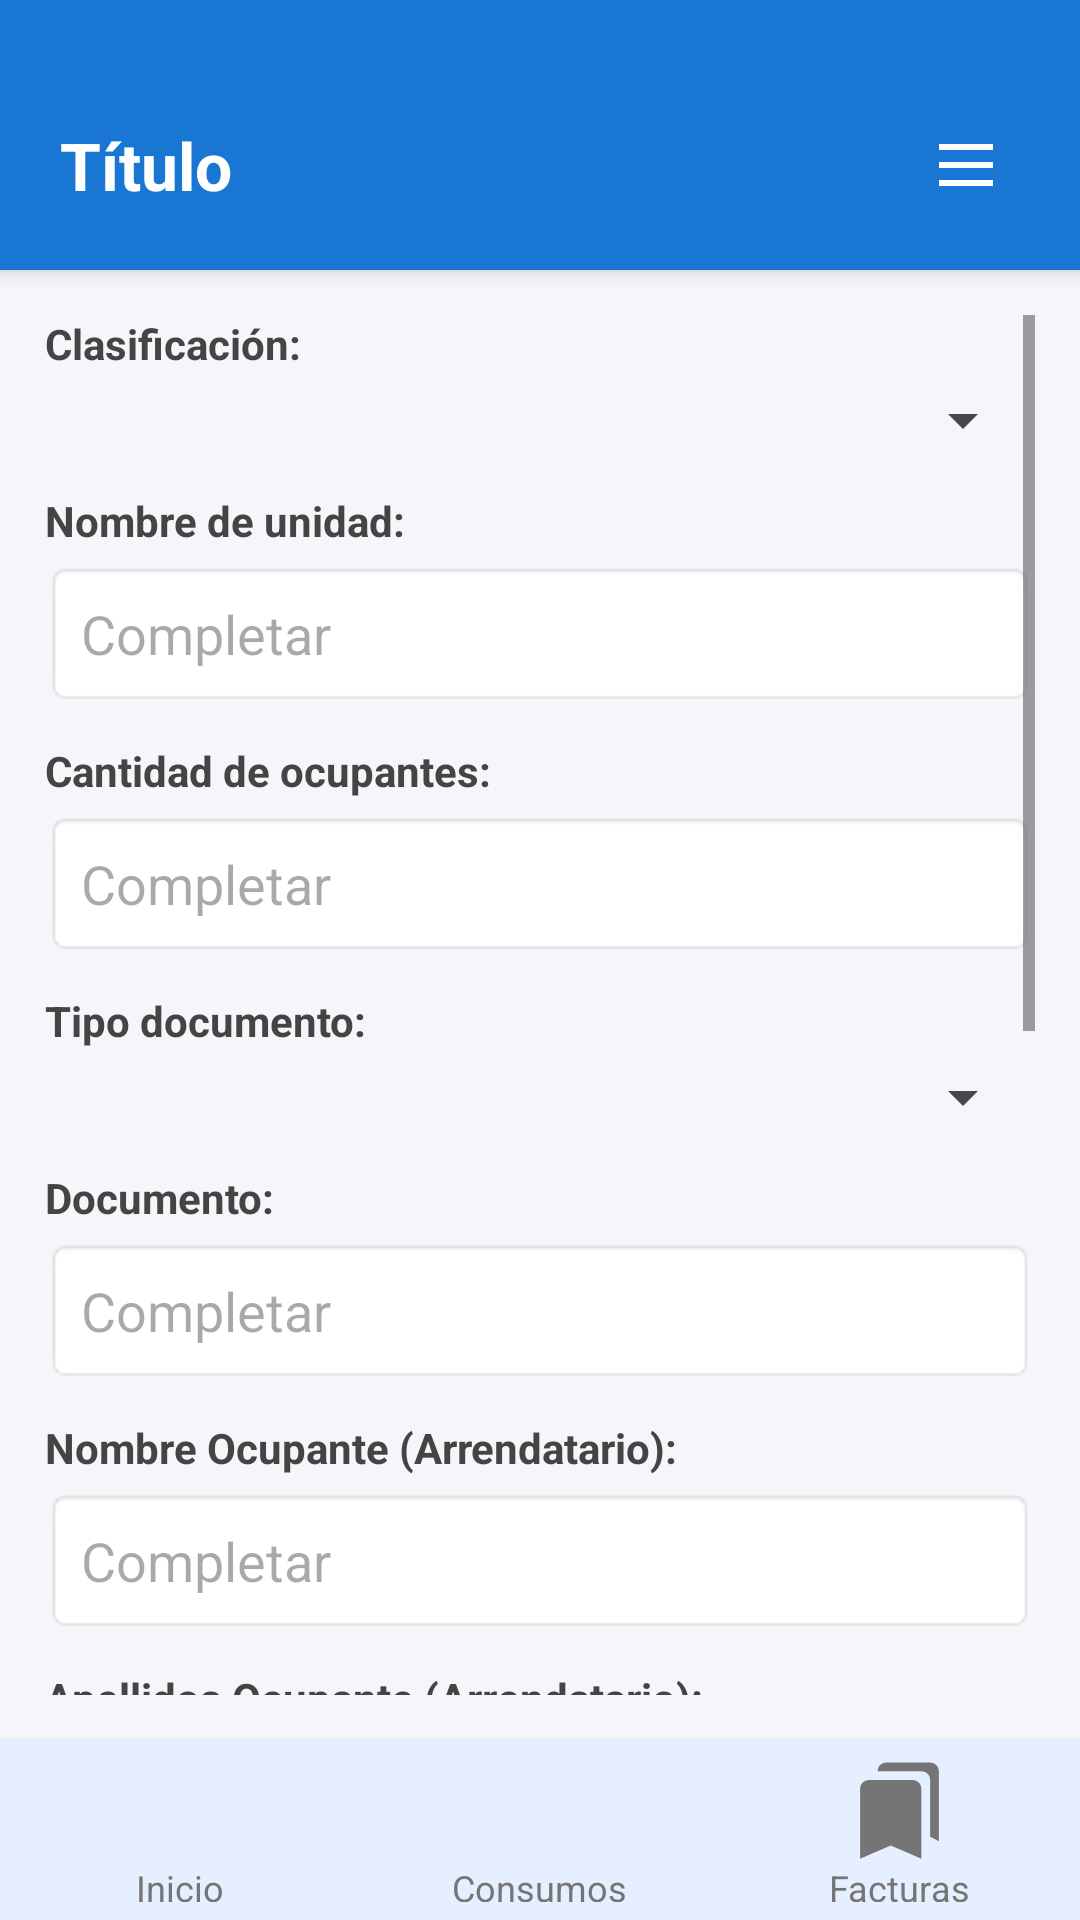

Icons on this 1080 × 1920 Android screen, each with the point to tap as (x,y):
Menú principal: (966,165)
